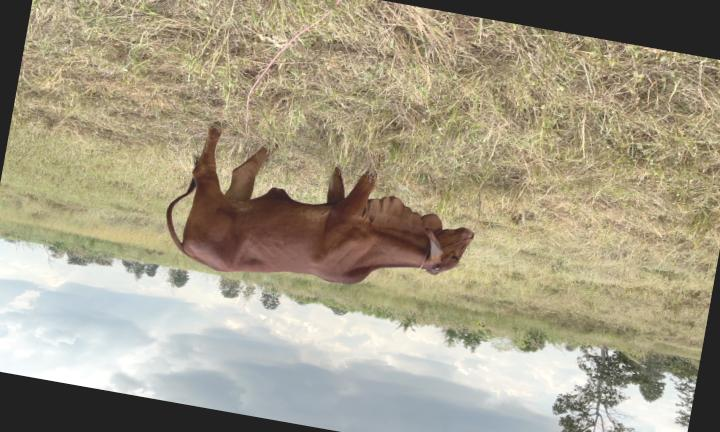Brahman: (166, 128, 474, 284)
